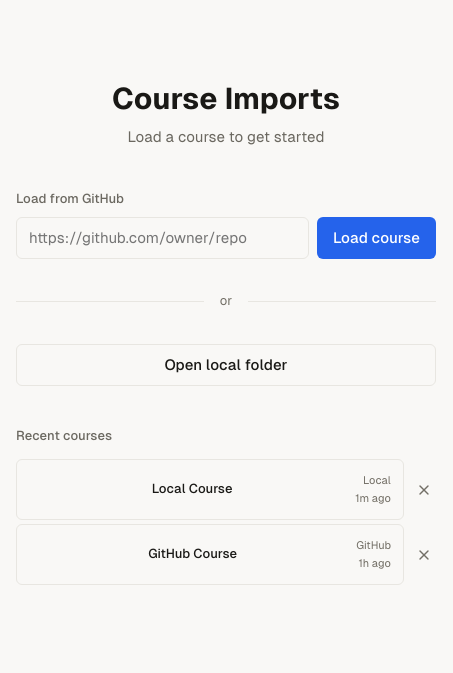
Test case: Home › Recent courses › displays offline error when clicking a GitHub recent course while offline
The image size is (453, 673).
Check: the text "GitHub Course" is shown, box [148,546,237,561]
Click the button with aria-label "Load GitHub Course" at (210, 555), box [16,524,404,585]
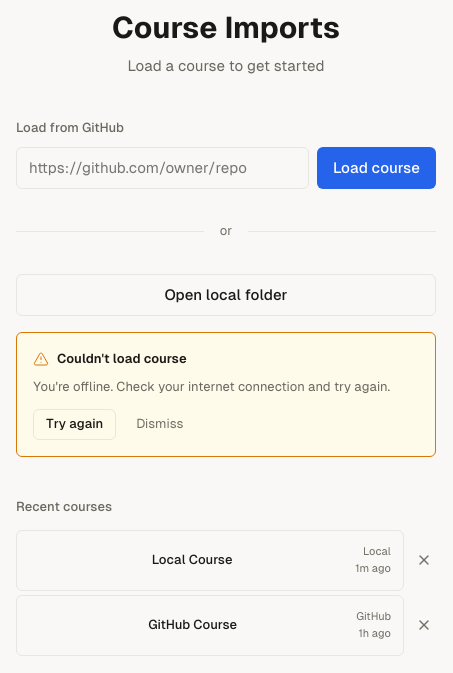
Check: the message is shown, box [16,332,436,457]
Check: the text "You're offline. Check your internet connection and try again." is shown, box [33,378,419,397]
